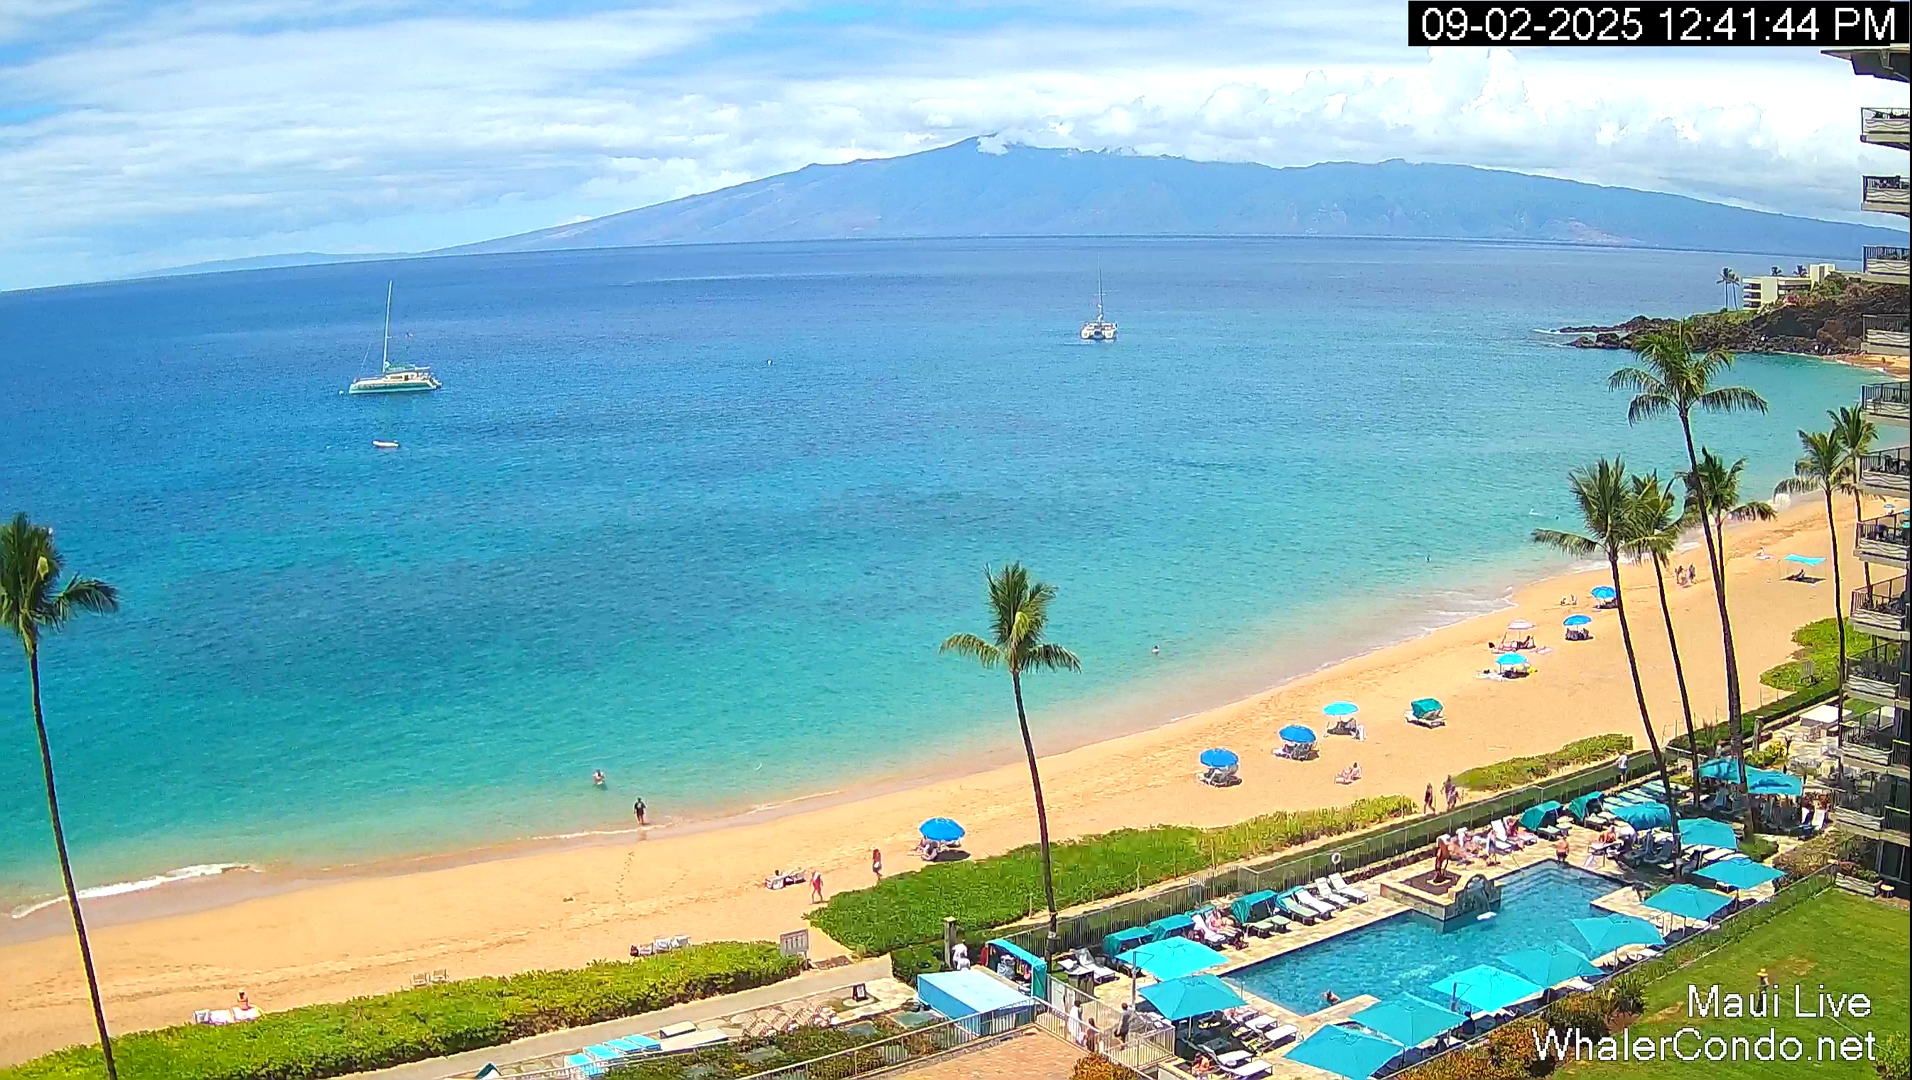boat: (347, 280, 443, 395), (1080, 253, 1118, 341), (372, 439, 400, 449)
person: (192, 990, 265, 1025), (1115, 1003, 1134, 1046), (1068, 1000, 1084, 1045), (1084, 1017, 1101, 1051), (952, 939, 970, 970), (1614, 750, 1629, 785), (1442, 775, 1456, 812), (809, 872, 824, 904), (872, 847, 883, 888), (633, 797, 648, 825), (1423, 783, 1436, 815), (1114, 1024, 1130, 1047), (1556, 837, 1569, 863), (1324, 989, 1340, 1006), (1350, 761, 1362, 780), (633, 797, 640, 826), (1687, 563, 1696, 584), (1676, 565, 1685, 584), (592, 770, 604, 784), (630, 944, 640, 957), (1152, 645, 1160, 655), (1426, 554, 1431, 562), (1526, 635, 1534, 640)
